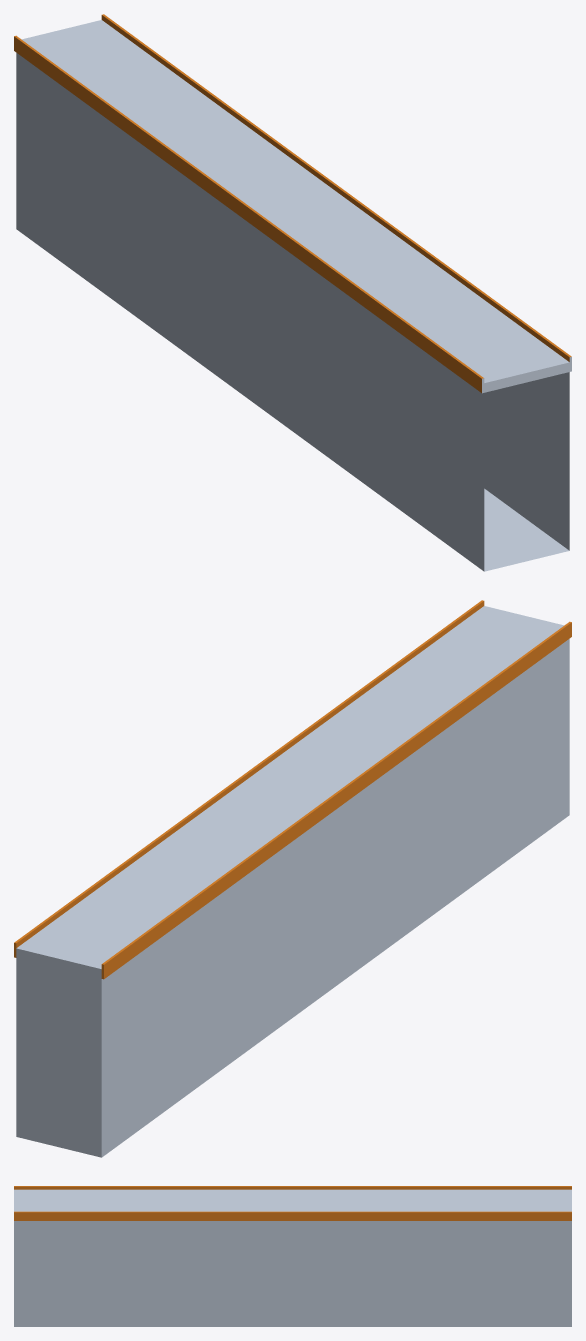
Rendered from Platform_2.fbx.
3 views of the same model, one above another, from view 1: azimuth 30°, elevation 25°; view 2: azimuth 150°, elevation 25°; view 3: azimuth 270°, elevation 25° (orthographic). The views are drawn at different scales.
Visible parts, largest first — view 1: Platform_2; view 2: Platform_2; view 3: Platform_2.
Boxes of the visible parts, <box> form: Platform_2: <box>14,14,571,571</box>; Platform_2: <box>14,600,571,1157</box>; Platform_2: <box>14,1186,571,1326</box>.
Size of the model in its own units: 2 by 4.11 by 18.
